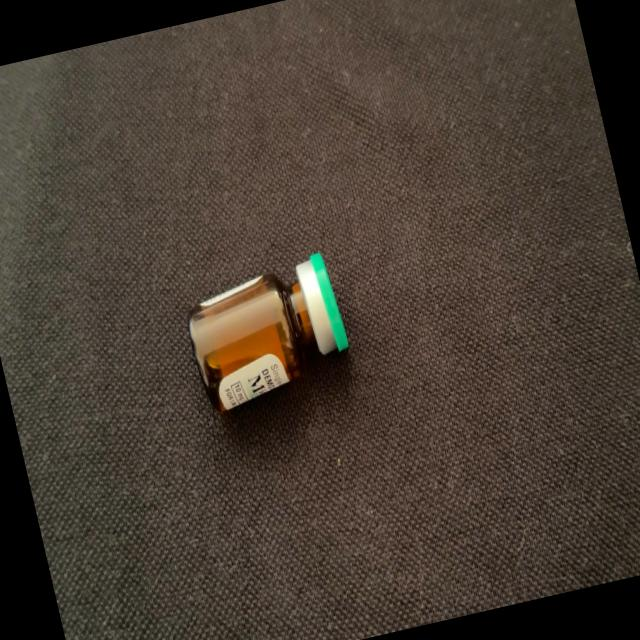midazolm: (182, 253, 354, 413)
